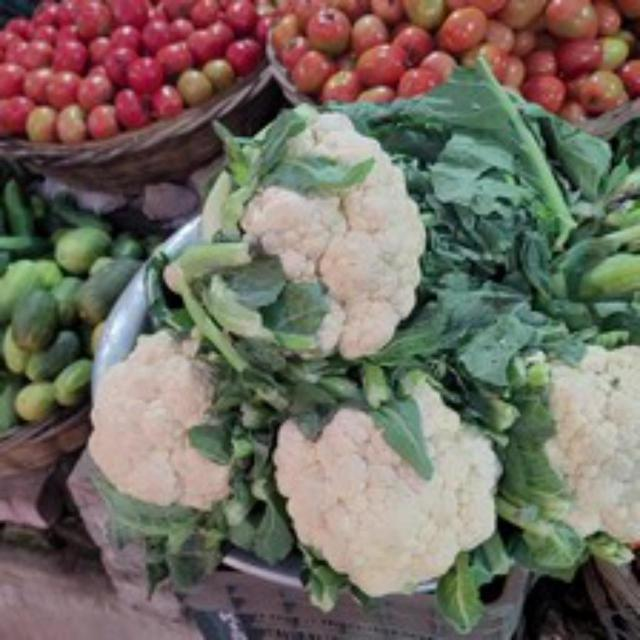cauliflower: (266, 357, 505, 602)
